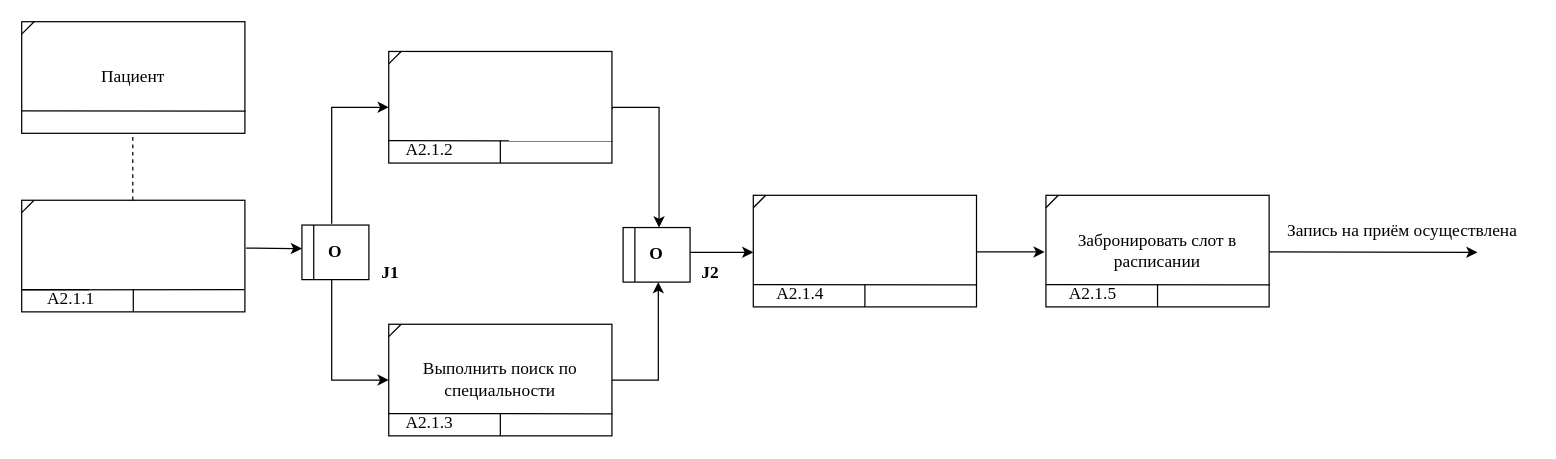
Some shapes in this 1556 by 459 pixel diagram are drawn without their labels. Here are the shapes that lost their labels. From the top down, the box of each, then its label:
(388, 50, 612, 163): Выполнить поиск врача по ФИО
(20, 199, 245, 312): Сформировать критерии поиска
(752, 194, 976, 307): Выбрать свободную дату и время
